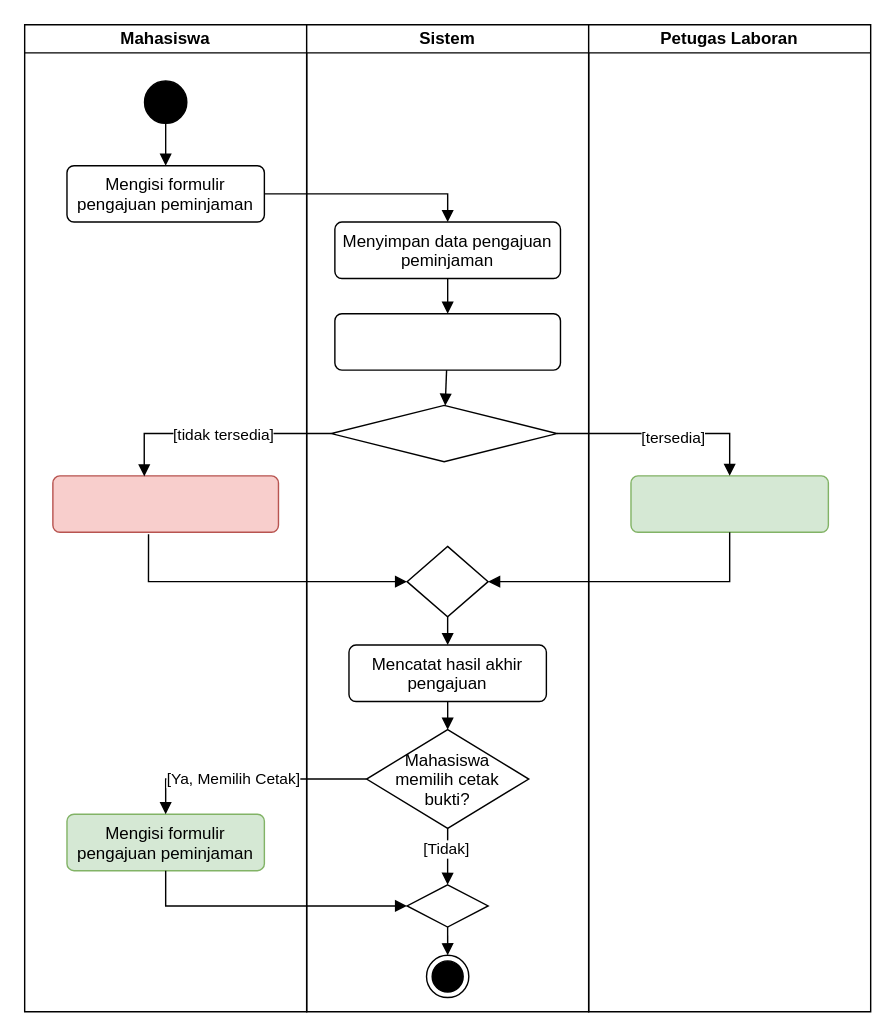
The diagram is 895 pixels wide and 1036 high, and some of its shapes have lost their labels. Here are the shapes that lost their labels. From the top down, the centre of each, then its label:
At point 446,341: "Periksa ketersediaan".
At point 443,433: "Peralatan tersedia?".
At point 164,503: "menerima pemberitahuan pengajuan tidak terpenuhi".
At point 729,503: "Memproses keputusan peminjaman".
